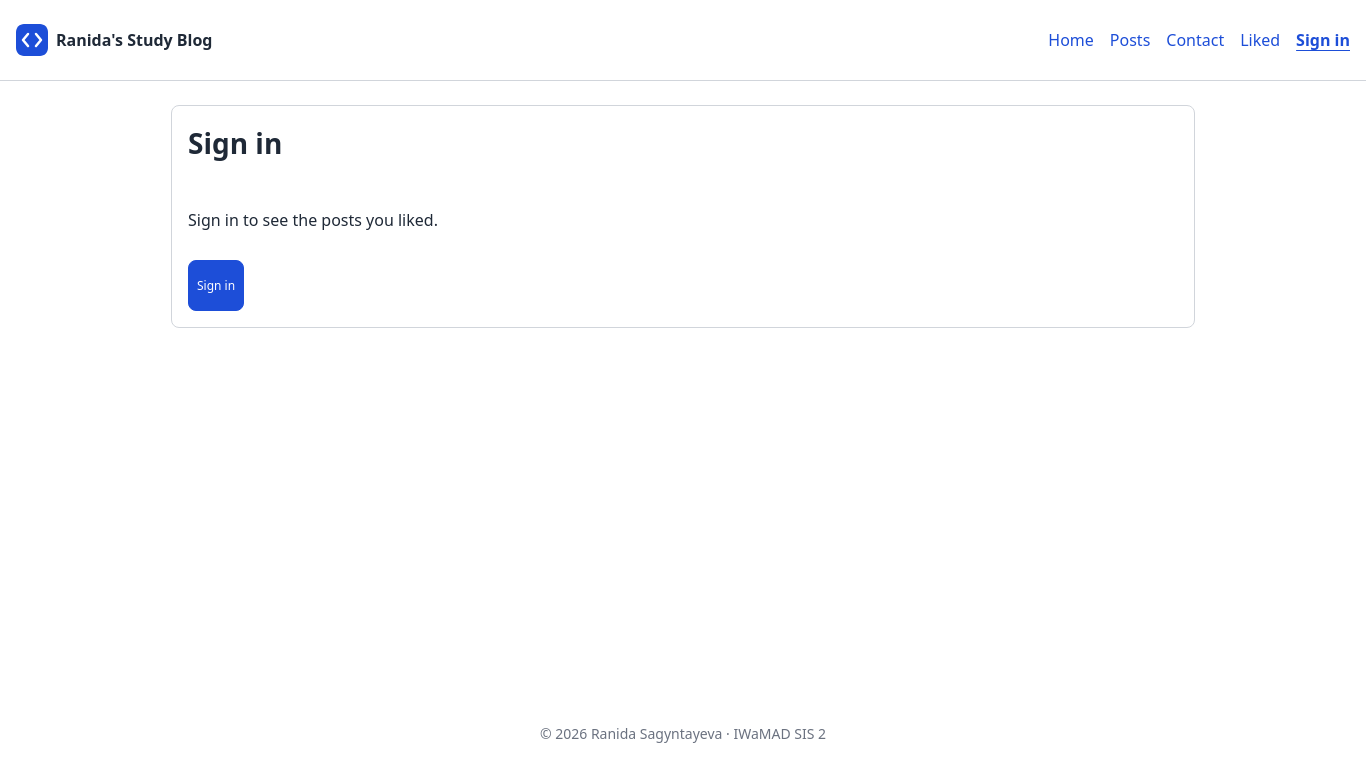
App › shows the sign-in page on /liked when signed out, and the page after signing in
Check: the heading "Sign in" is shown, box x1=188 y1=124 x2=282 y2=162
Click the button "Sign in".
click(216, 286)  # box x1=188 y1=260 x2=244 y2=311
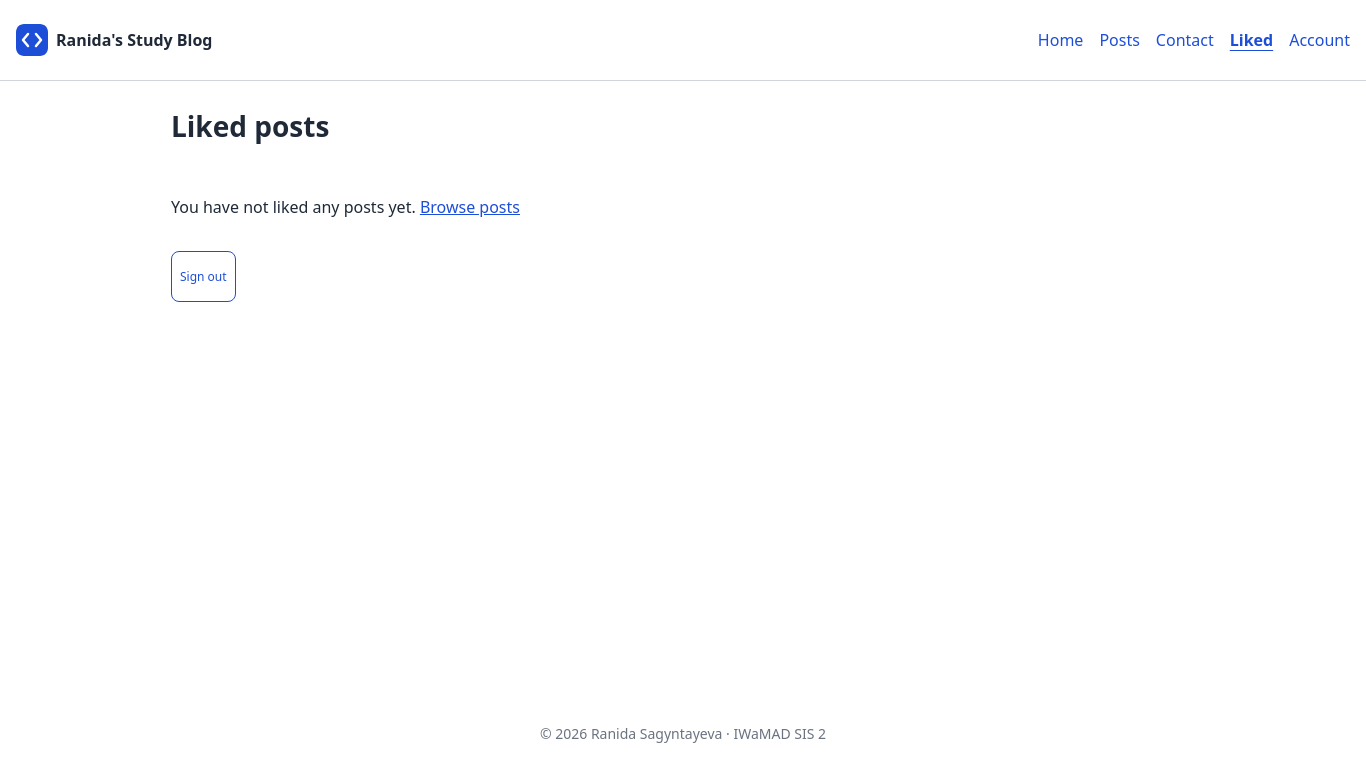
Check: the heading "Liked posts" is shown, box x1=171 y1=107 x2=329 y2=145
